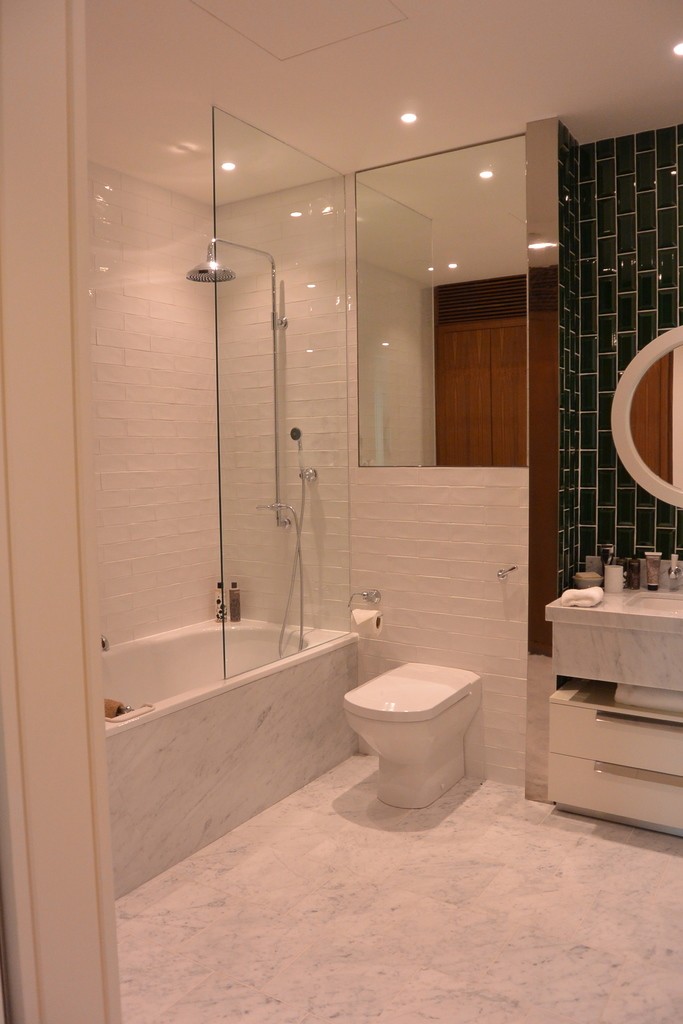cabinet door: (553, 761, 683, 822), (552, 711, 683, 765)
handle: (593, 759, 683, 801), (593, 703, 683, 741)
